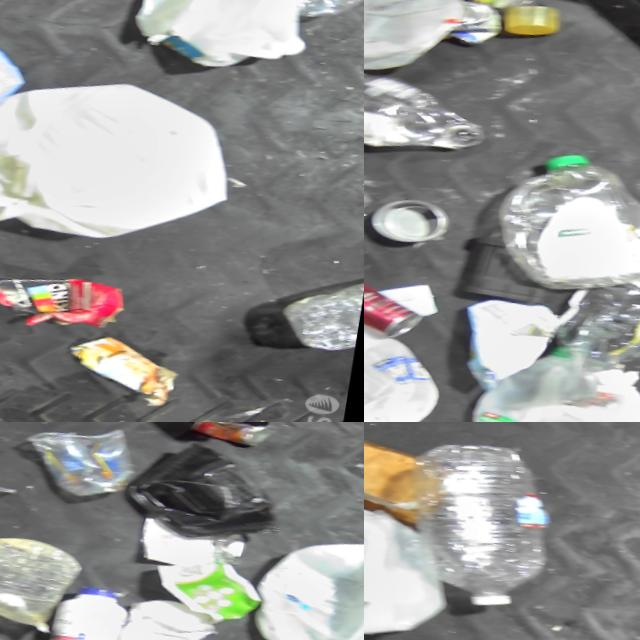can: (58, 330, 190, 421), (364, 239, 430, 352), (364, 192, 451, 256), (180, 422, 281, 464), (449, 0, 504, 55)
milk_jug: (0, 57, 240, 278), (114, 0, 320, 98), (364, 493, 462, 640), (242, 531, 364, 640), (364, 284, 452, 422), (461, 363, 640, 422), (364, 0, 470, 92)
non_white_jug: (481, 137, 640, 321), (364, 53, 494, 174)
plastic_bottle: (394, 432, 570, 627), (255, 272, 364, 381), (191, 0, 364, 50)
